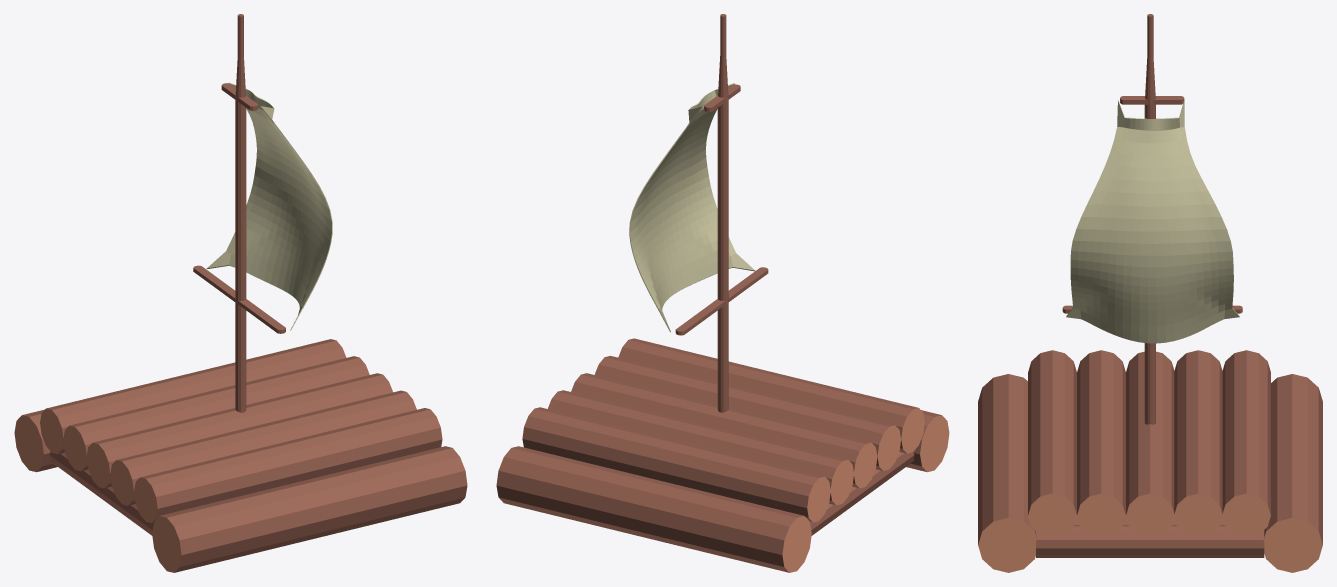
Rendered from StarterJangada.fbx.
3 renders of one model, left to right at view 1: azimuth 30°, elevation 25°; view 2: azimuth 150°, elevation 25°; view 3: azimuth 270°, elevation 25°, orthographic. The views are drawn at different scales.
Visible parts, largest first — view 1: Jangada, Sail; view 2: Jangada, Sail; view 3: Jangada, Sail.
Part boxes in pixels (box(x1,y1,x2,y2)): Jangada: box(14, 14, 467, 572); Sail: box(206, 82, 332, 330); Jangada: box(496, 14, 949, 572); Sail: box(629, 83, 755, 332); Jangada: box(978, 14, 1322, 572); Sail: box(1066, 100, 1239, 343).
Size of the model in its own units: 1127 by 1761 by 1133.
